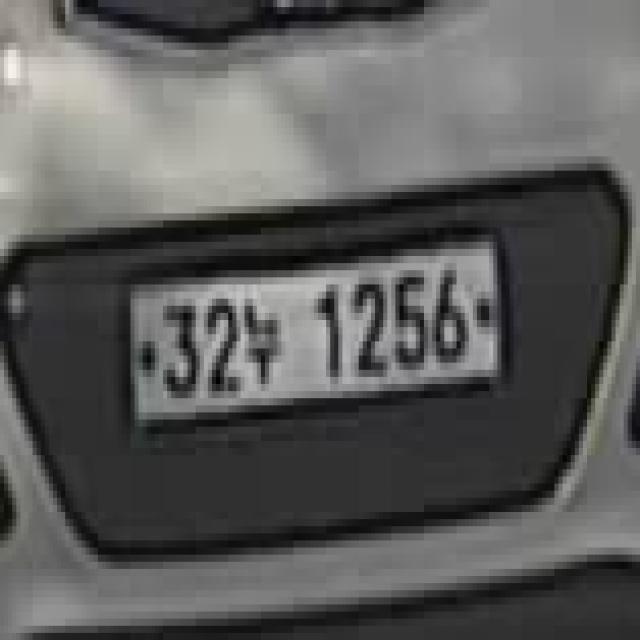1: (314, 277, 342, 377)
2: (351, 270, 392, 377), (204, 292, 240, 398)
3: (159, 299, 200, 398)
5: (391, 263, 432, 377)
6: (432, 263, 469, 363)
license_plate: (130, 234, 510, 426)
nu: (236, 299, 282, 384)
